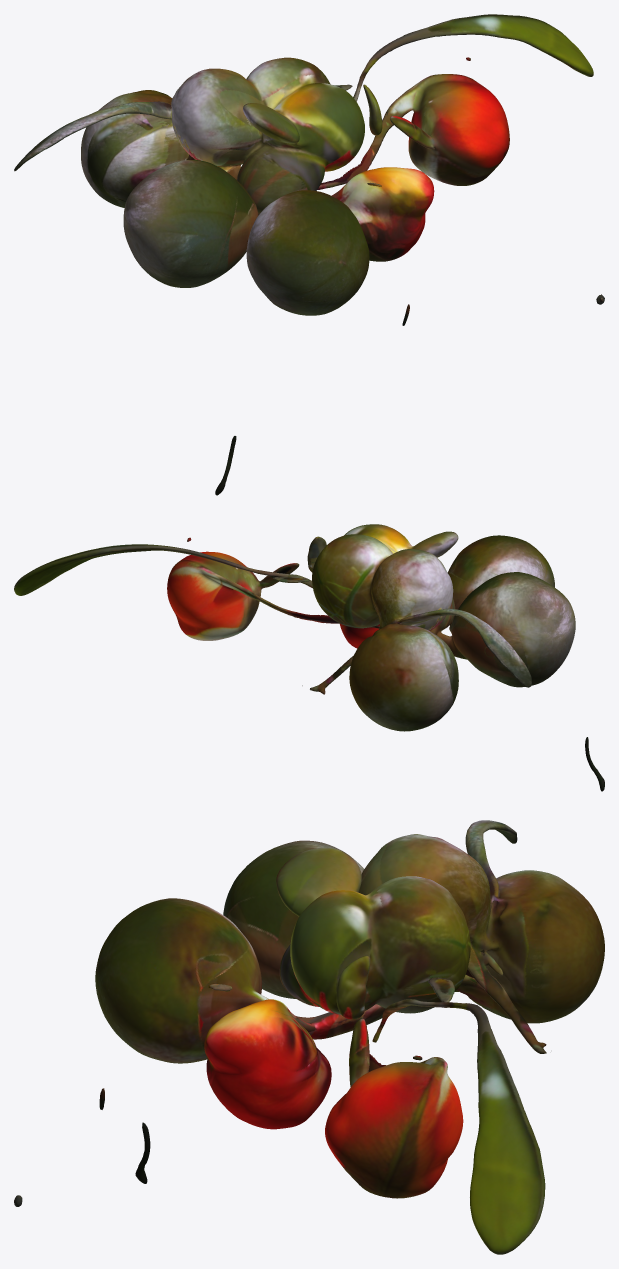
Rendered from tree0063_dup.gltf.
3 renders of one model, top to bottom at view 1: azimuth 30°, elevation 25°; view 2: azimuth 150°, elevation 25°; view 3: azimuth 270°, elevation 25°, orthographic. The views are drawn at different scales.
Visible parts, largest first — view 1: Mesh_0; view 2: Mesh_0; view 3: Mesh_0.
Part boxes in pixels (x1,y1,x2,y2): Mesh_0: [14, 14, 604, 495]; Mesh_0: [14, 524, 604, 791]; Mesh_0: [14, 820, 604, 1254].
Size of the model in its own units: 2 by 1.06 by 1.38.
1 material, 1 textured.
